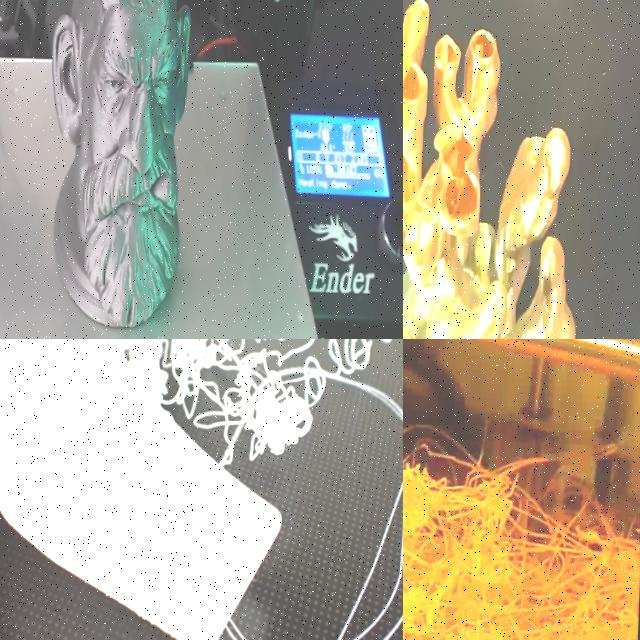spaghetti: (403, 437, 640, 640), (150, 339, 403, 438)
